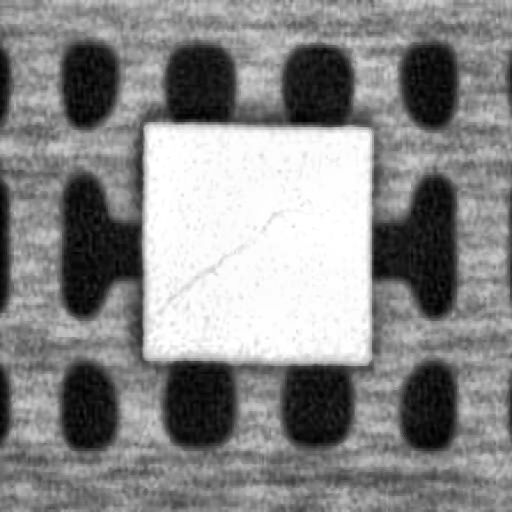DIE_CRACK: (152, 199, 302, 321)
